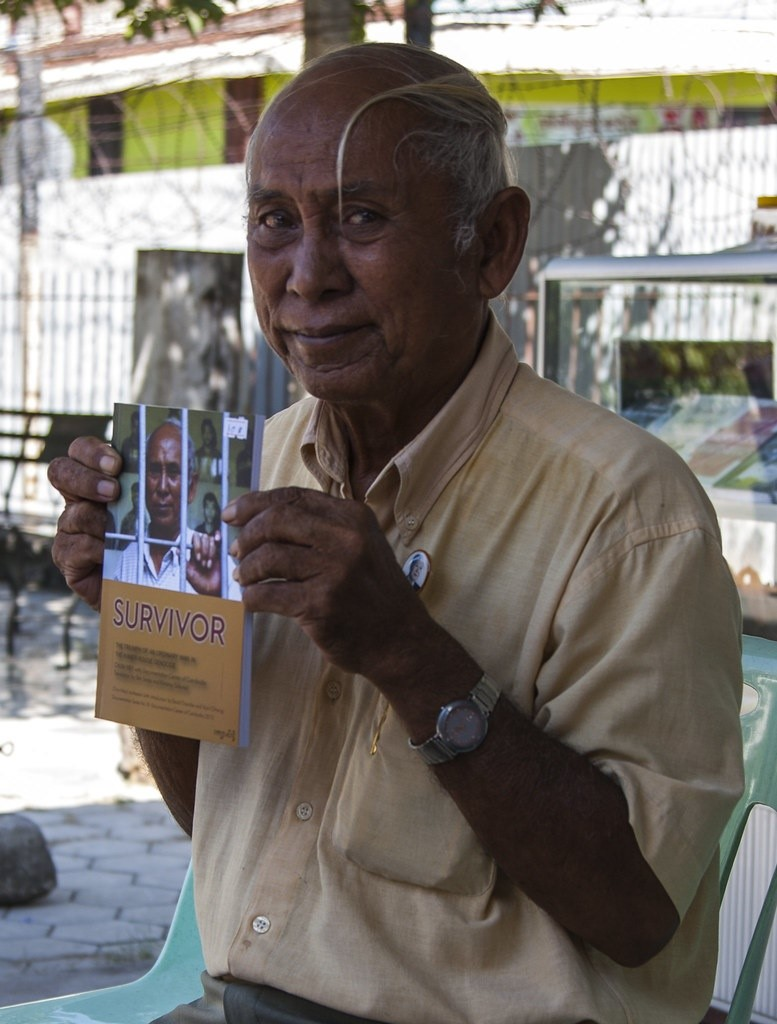face_no_mask: (243, 44, 521, 400)
